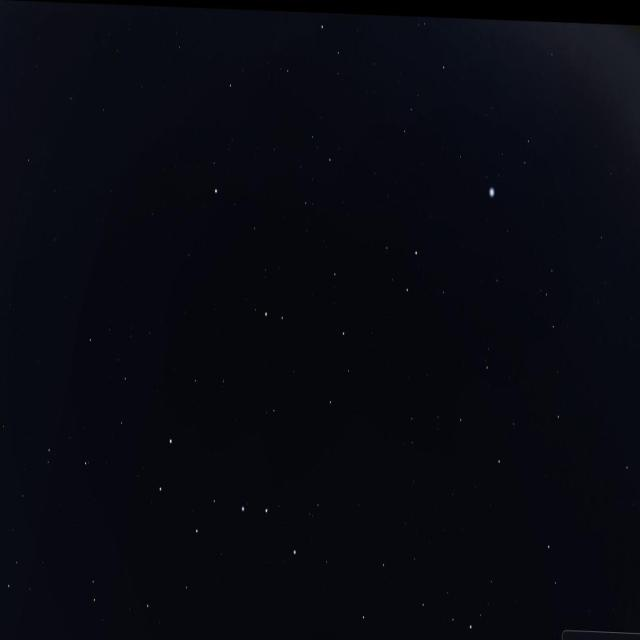lyra: (489, 118, 537, 193)
ursa_major: (153, 413, 301, 568)
